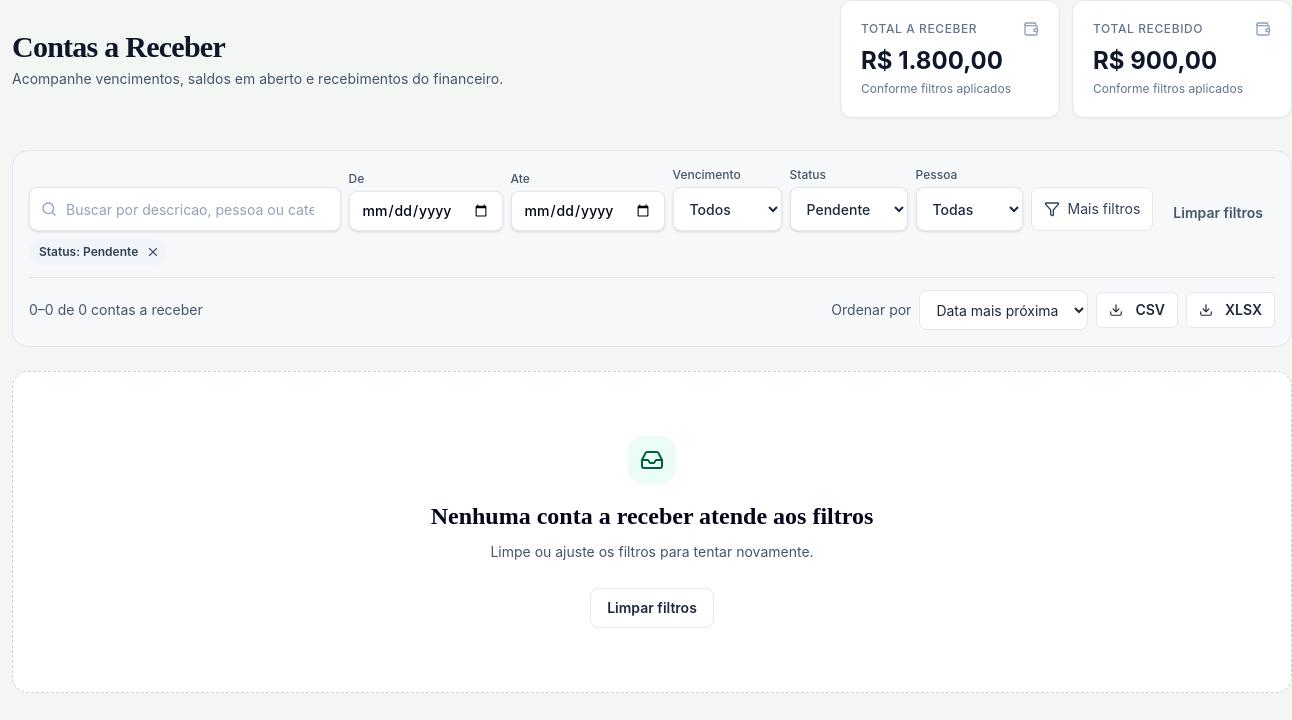
Test: ReceivablesPage › distingue filtered empty e oferece limpar filtros
expect the heading "Nenhuma conta a receber atende aos filtros" is shown: met, box [431,503,873,529]
Click the 2nd button "Limpar filtros" at (652, 608), box [590,588,714,628]
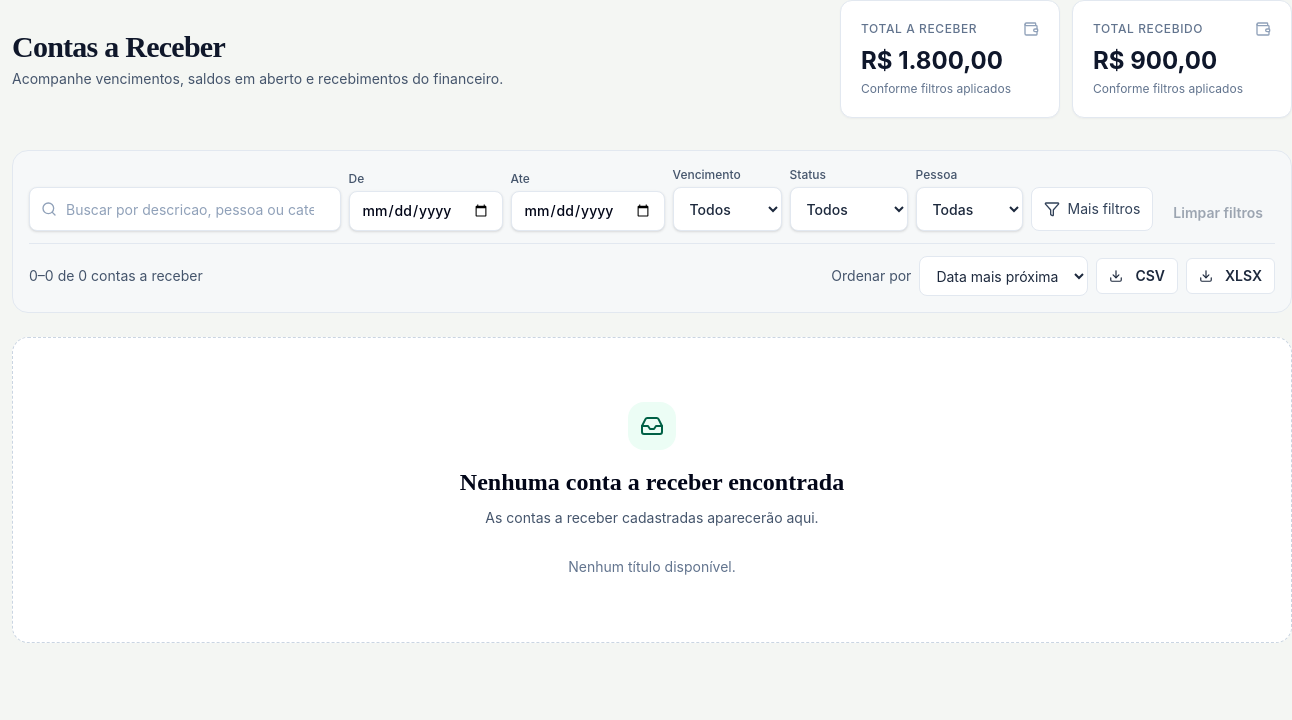
expect the heading "Nenhuma conta a receber atende aos filtros" is gone: met
